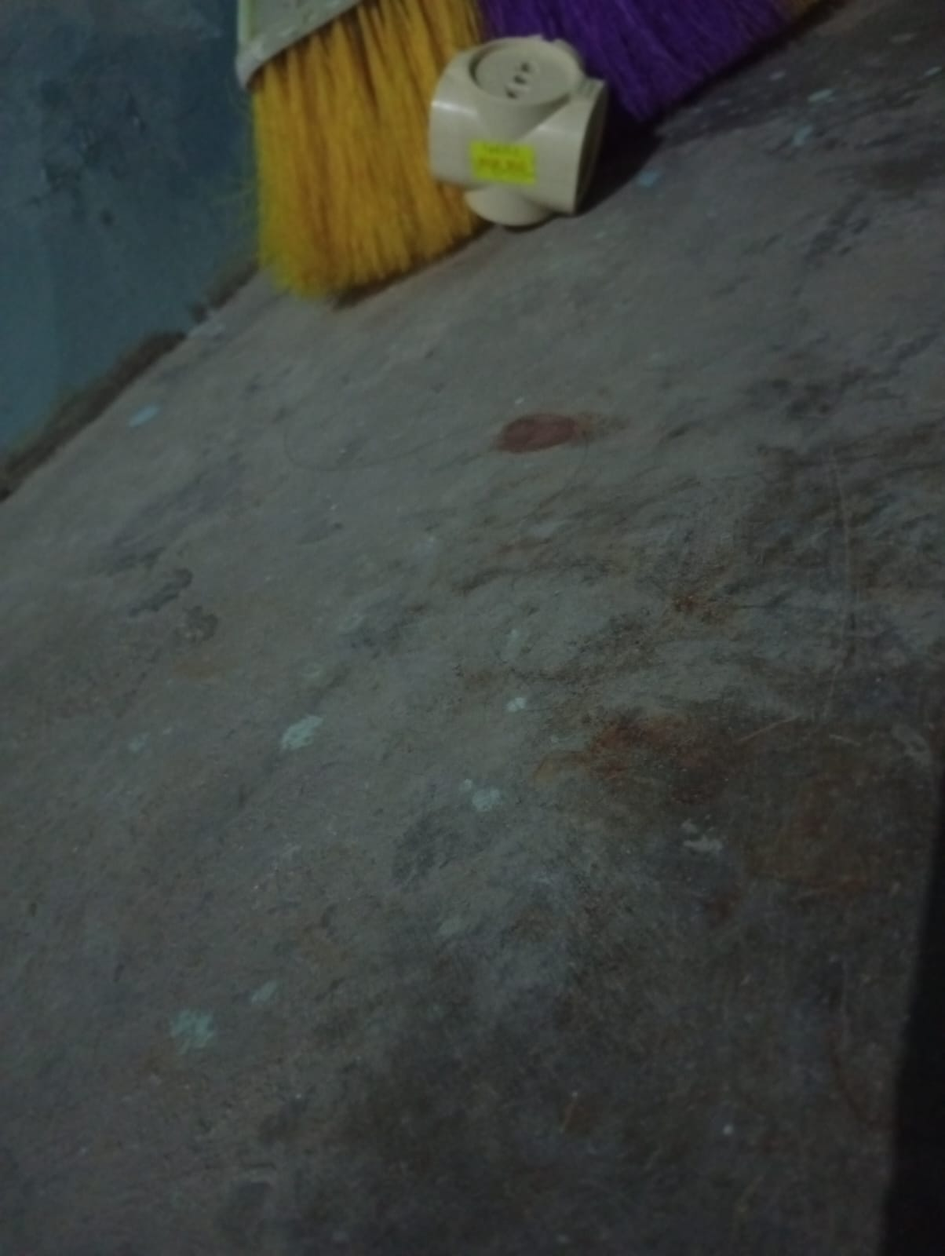Colokan: (399, 28, 639, 241)
